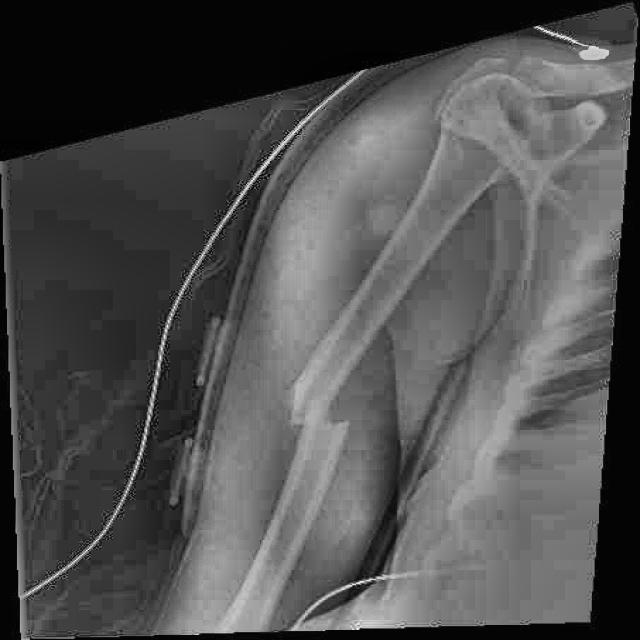humerus: (242, 314, 403, 521)
